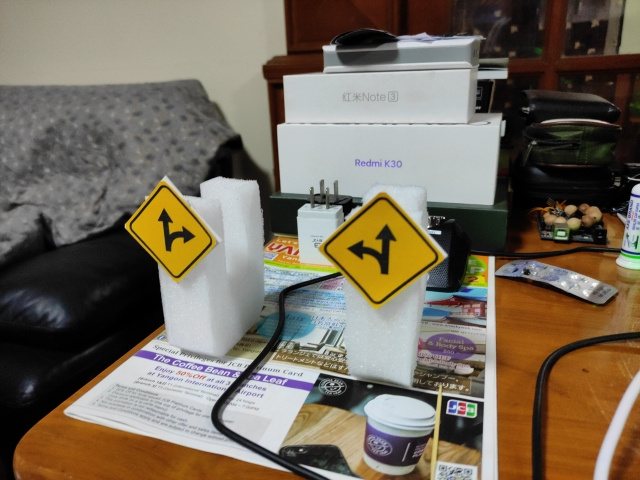Straight Or Left Sign: (320, 195, 444, 306)
Straight Or Right Sign: (127, 183, 218, 284)
